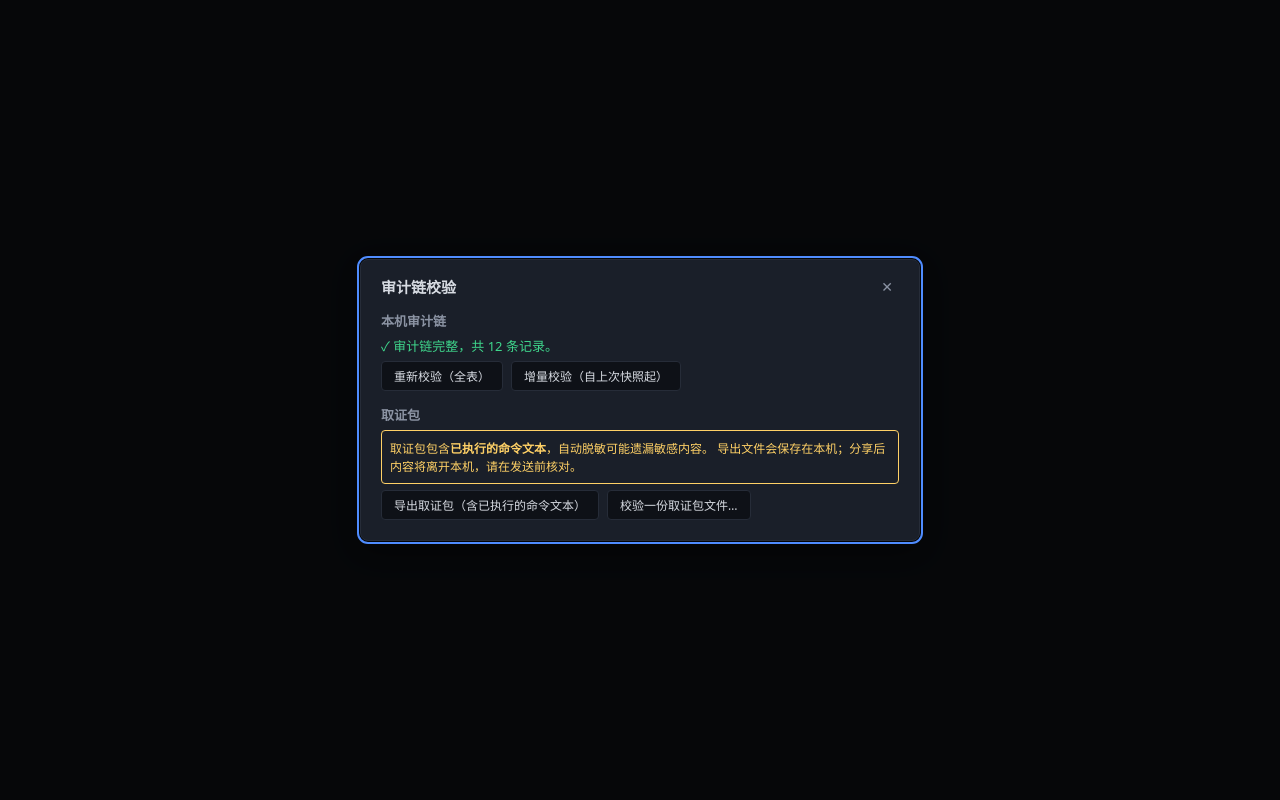
增量校验 › 全覆盖的增量结果（库里还没有快照）才给 ✓
Click the button with test id "audit-quick" at coordinates (596, 376), box [511, 361, 681, 391]
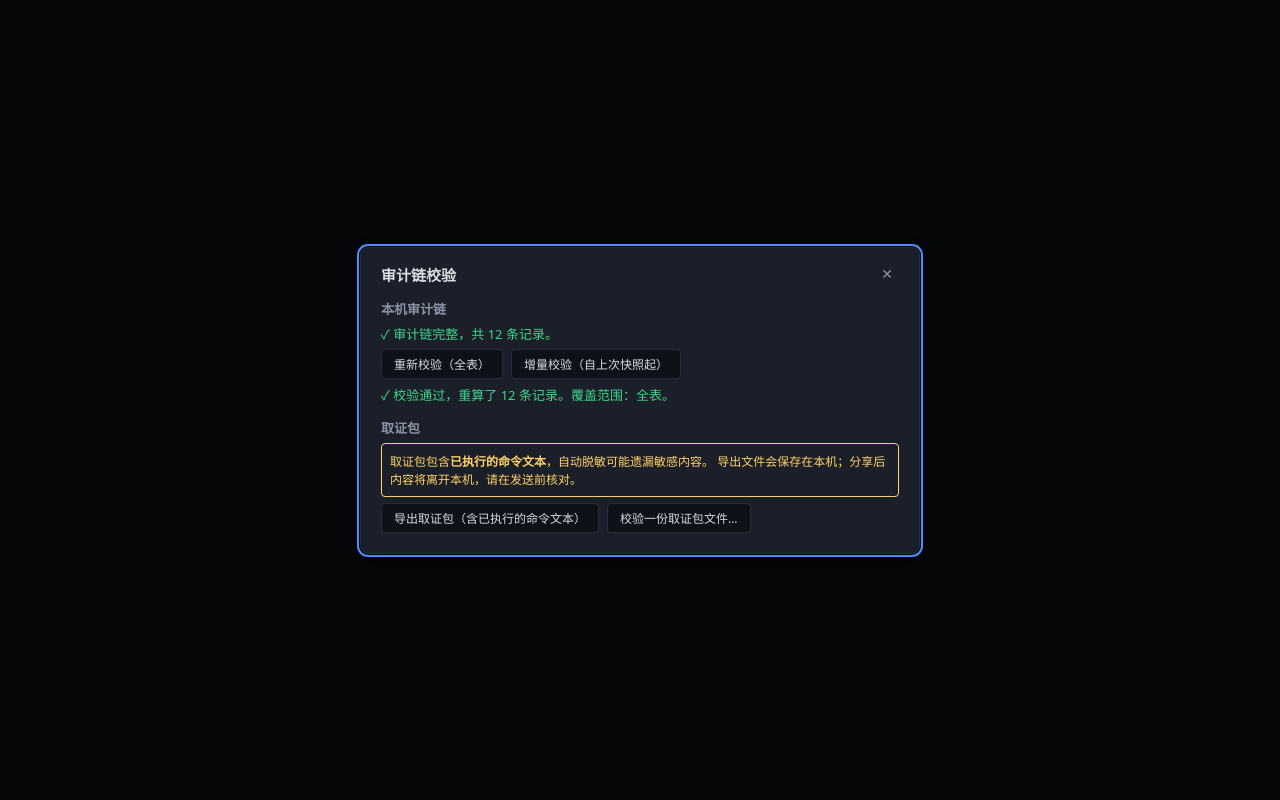
Check: the text with test id "audit-quick-result" shows "✓", box [381, 386, 675, 404]
